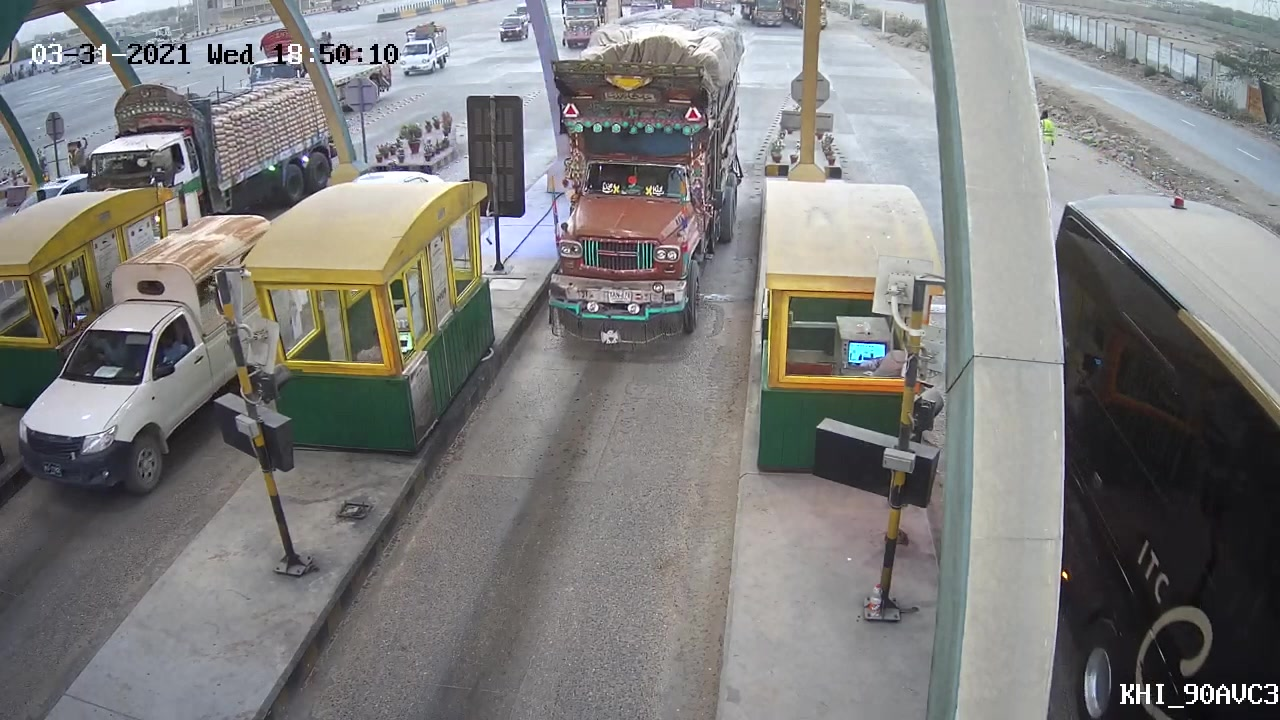F5: (532, 92, 725, 349)
